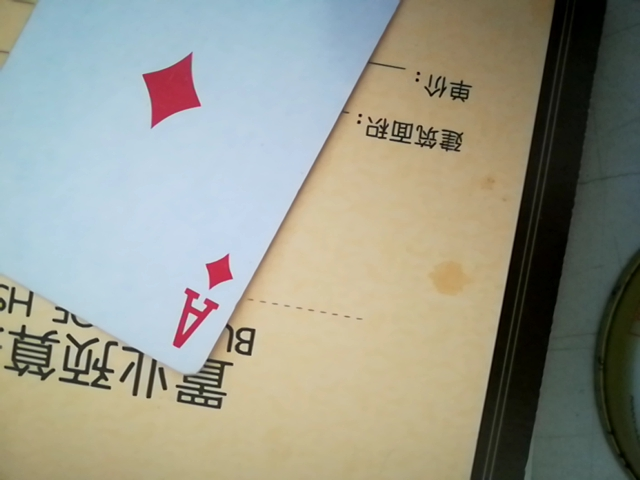fk a: (0, 5, 440, 377)
